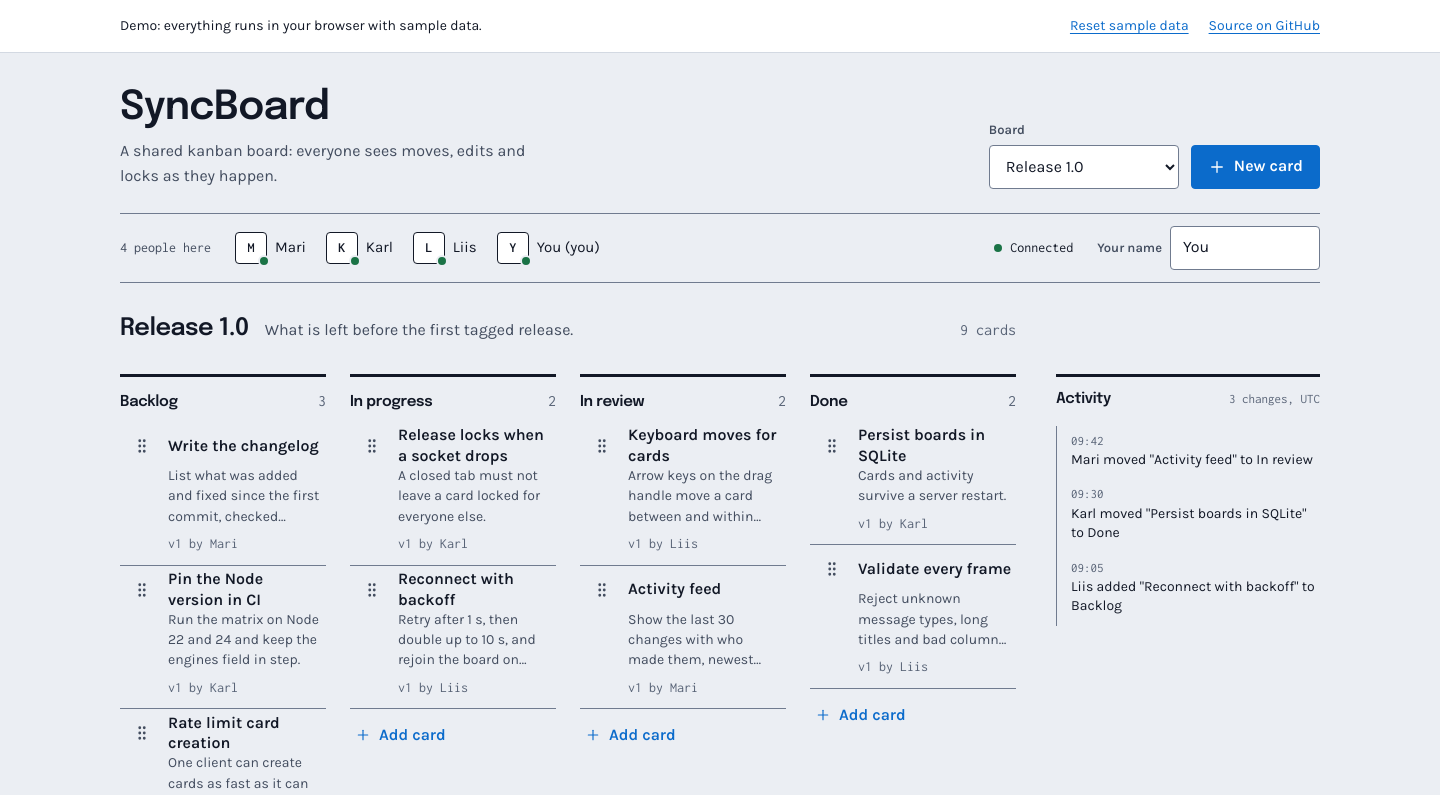
it: demo board › edits a card, holding the lock only while the dialog is open
Click the button "Write the changelog": (245, 446) [168,424,322,468]
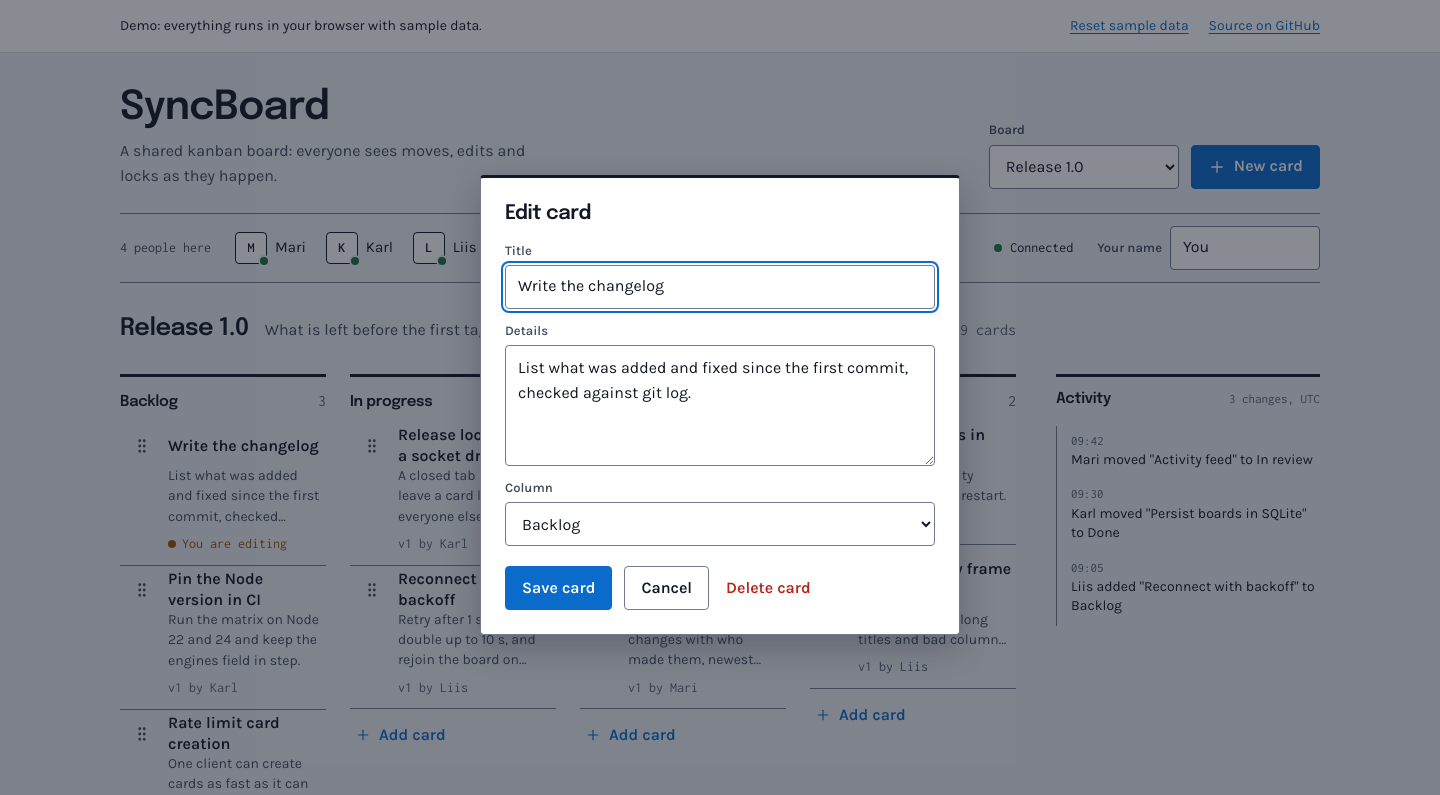
Check: the text "You are editing" is shown, box [168,533,287,555]
Replace the text in the field labelled "Title" with "Write the release notes": (720, 287) [505,265,935,309]
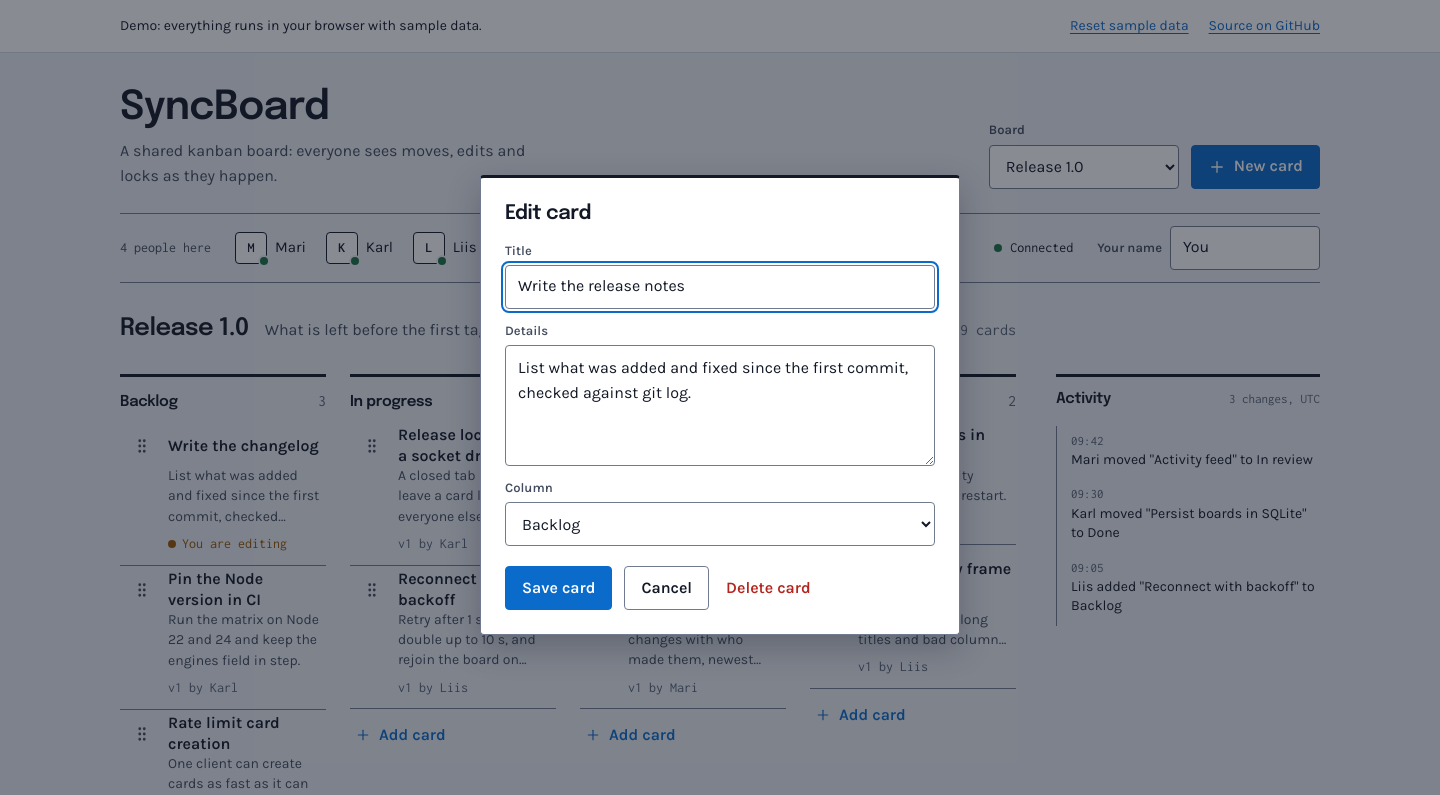
Click the button "Save card": (559, 588) [505,566,612,610]
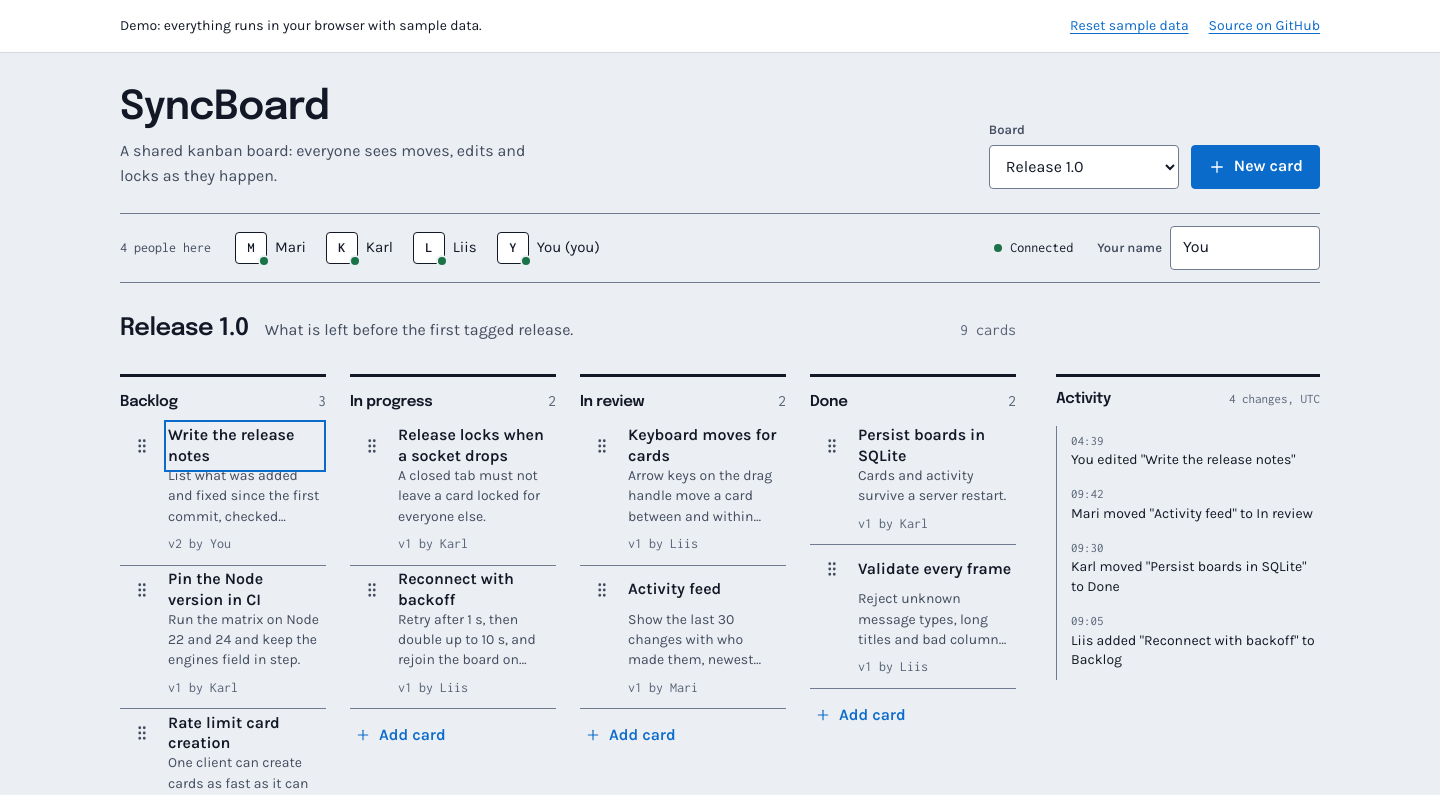
Check: the button "Write the release notes" is shown, box [168,424,322,468]
Check: the text "You are editing" is gone
Check: the text "You edited \"Write the release notes\"" is shown, box [1071,450,1320,469]
